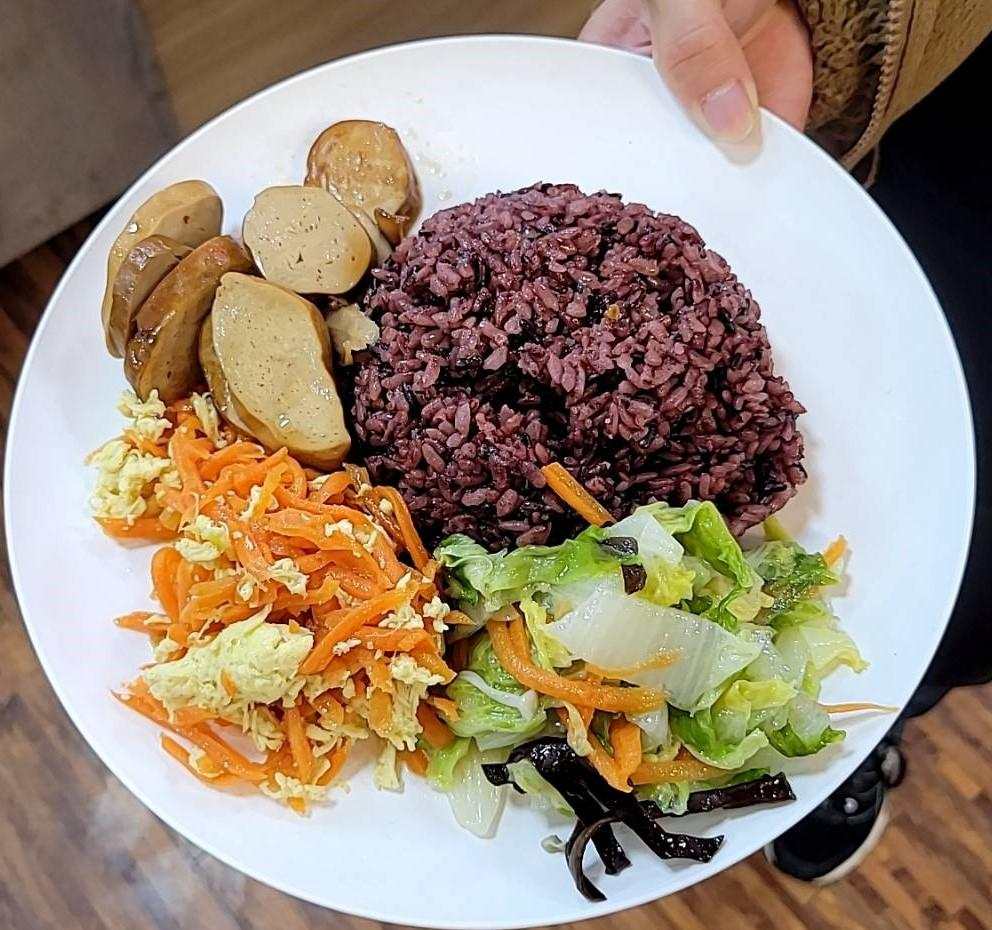big fried chicken leg: (0, 34, 992, 930)
braised fish: (351, 180, 808, 541)
braised fish fillet: (435, 506, 858, 859), (90, 398, 447, 805), (91, 104, 424, 453)
